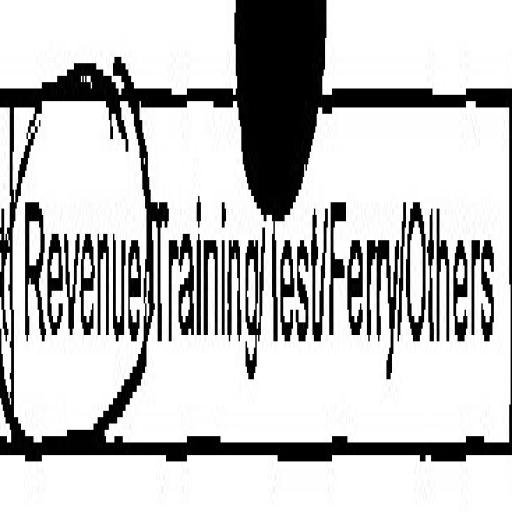check: (2, 0, 146, 491)
